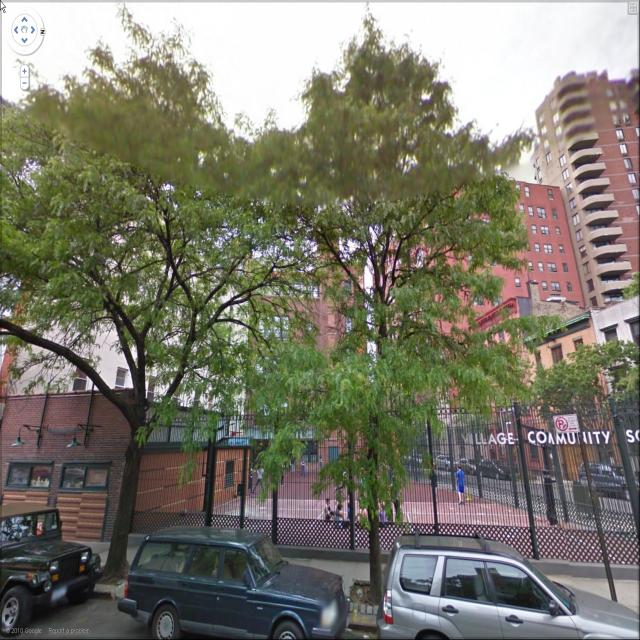b_1: (536, 58, 640, 314)
b_2: (25, 70, 254, 421), (374, 178, 572, 408), (253, 234, 381, 500), (7, 390, 235, 522), (534, 302, 618, 503), (459, 288, 530, 461)
